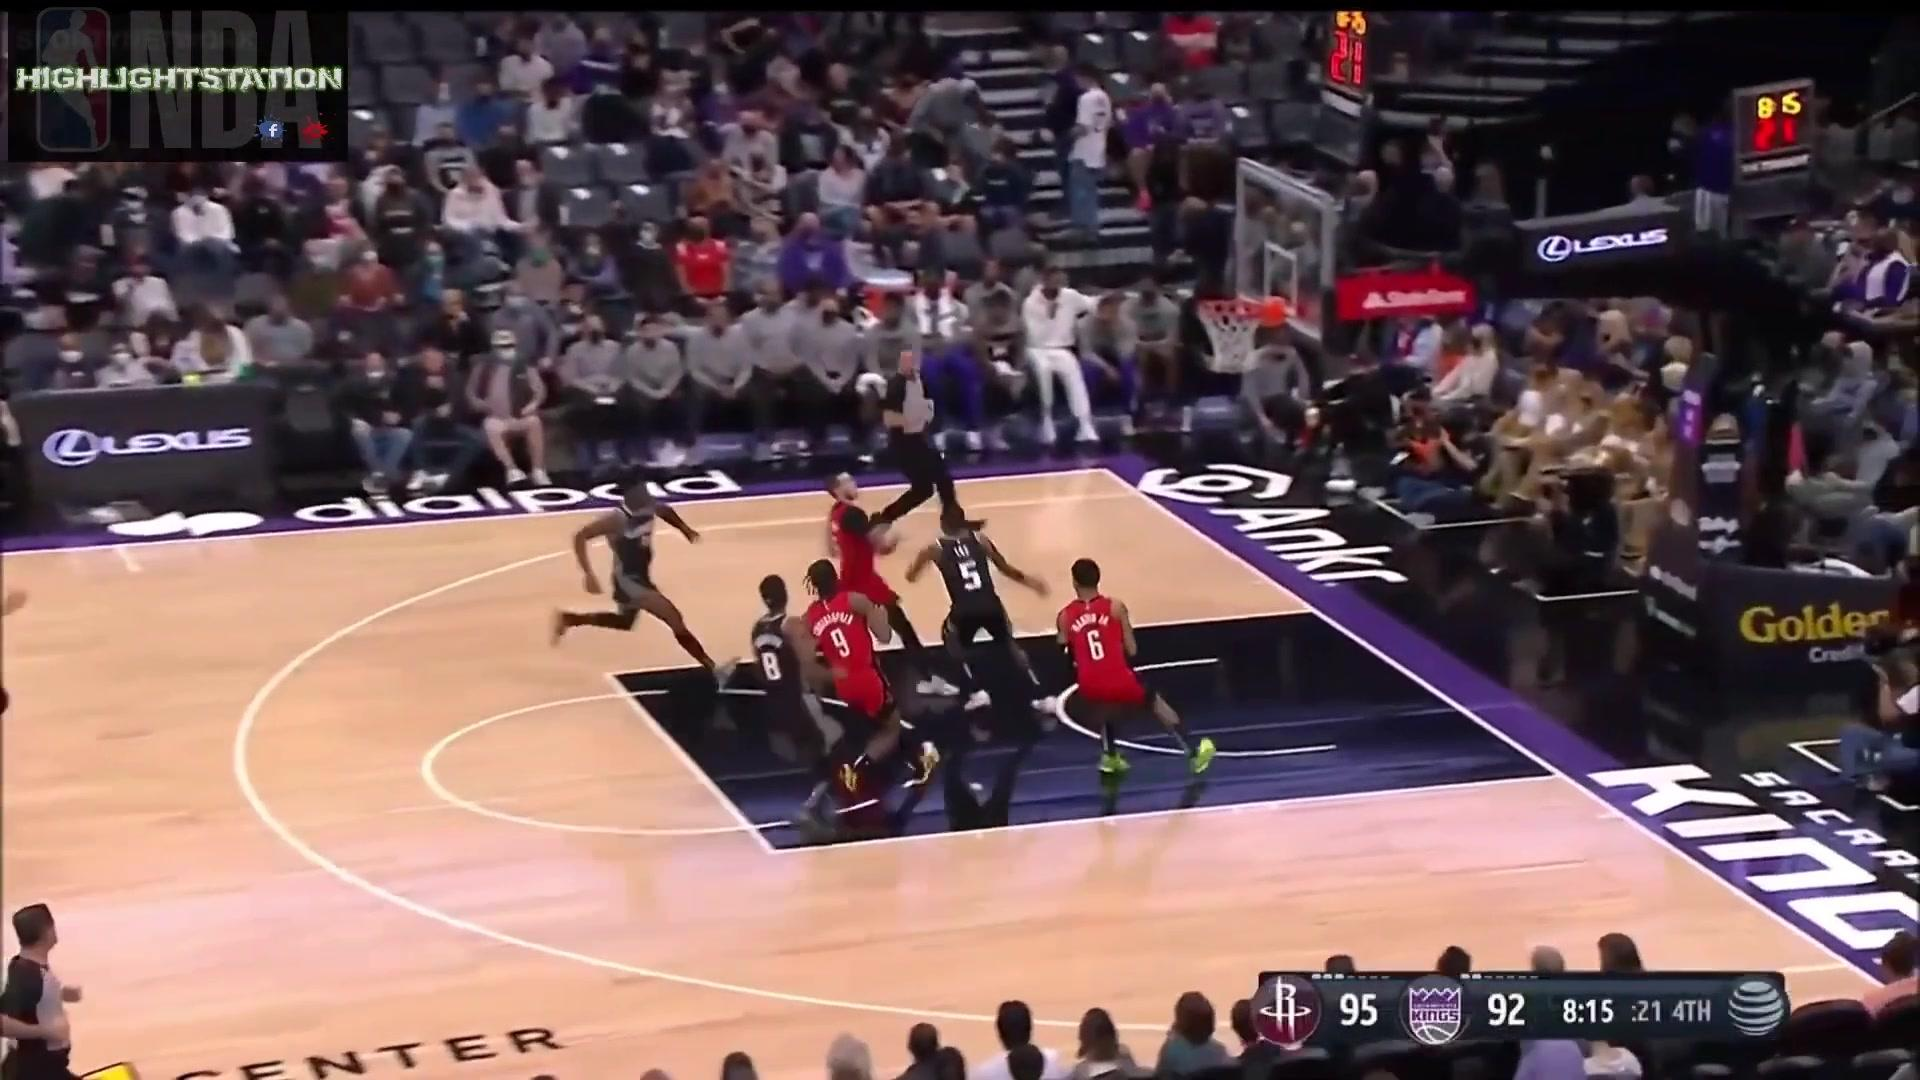no_foul: (741, 558, 915, 835)
